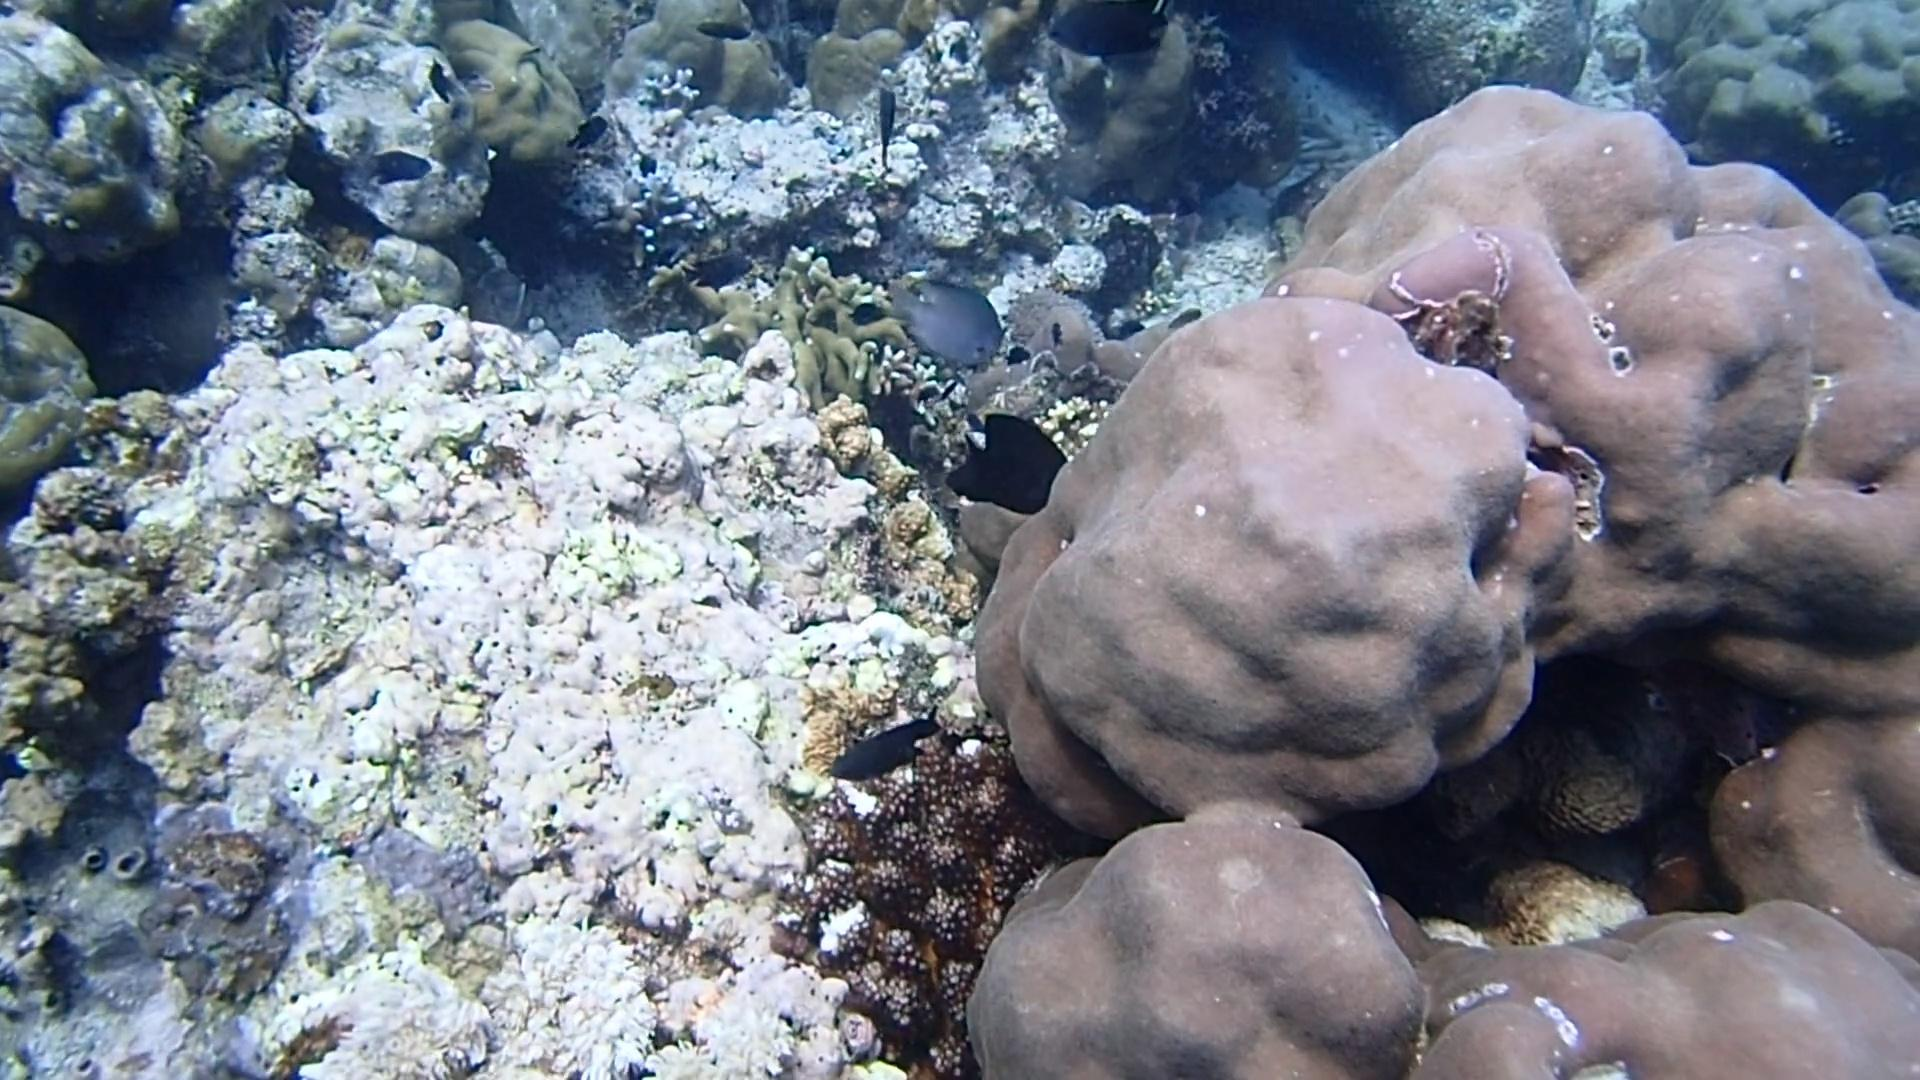Dark Fish: (944, 407, 1076, 527), (820, 711, 945, 800), (1040, 0, 1176, 67), (678, 247, 757, 297), (363, 148, 436, 194), (872, 78, 903, 174), (564, 109, 613, 156), (423, 53, 460, 113), (261, 12, 290, 82), (1112, 311, 1159, 349), (845, 298, 887, 328), (1001, 340, 1035, 372), (1047, 315, 1069, 360)
Light Fish - Dark Fin: (877, 266, 1013, 373)
